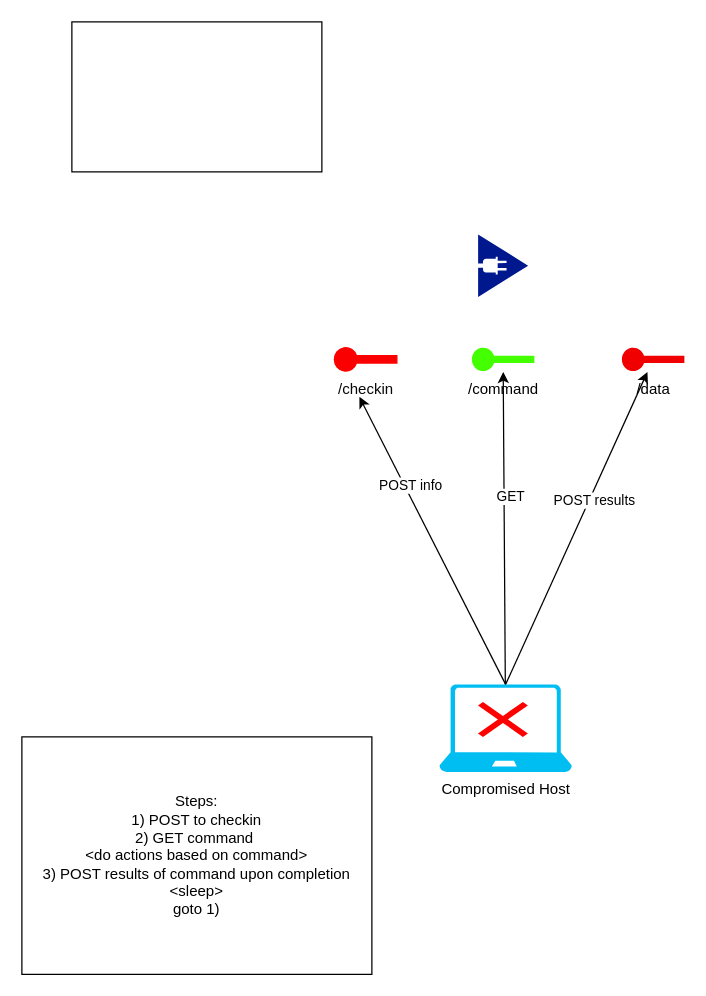
This 706x996 diagram has some shape labels left out. The box of each missing label's shape, as (x1, y1, x2, y2) in pixels:
Green: GET Red: POST: (71, 21, 322, 172)
Listener01: (478, 234, 528, 296)
